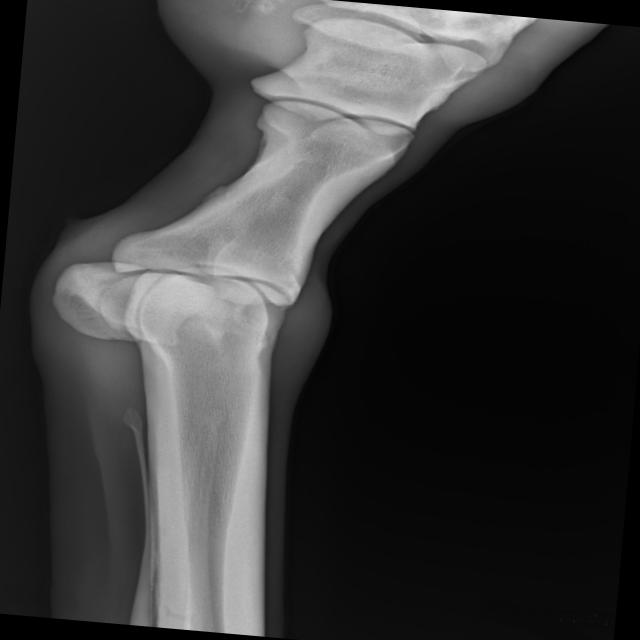joint-ht8A: (12, 175, 401, 413)
